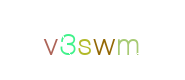3: (48, 0, 128, 80)
M: (61, 0, 141, 80)
S: (52, 0, 132, 80)
V: (29, 0, 109, 80)
W: (57, 0, 137, 80)
